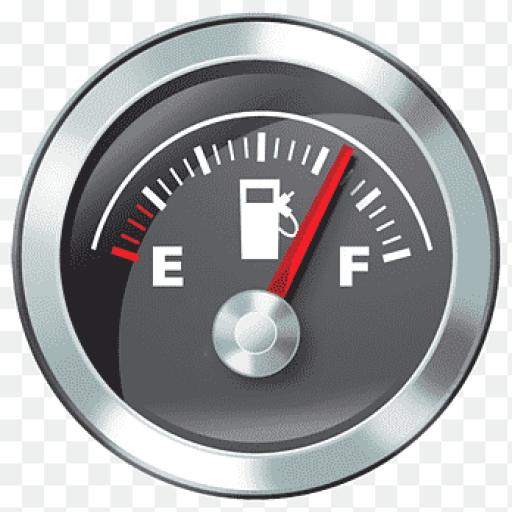empty: (145, 239, 192, 294)
fuel_icon: (234, 172, 288, 260)
full: (336, 241, 374, 293)
guage_area: (15, 15, 500, 498)
needle_center: (206, 283, 304, 385)
needle_tip: (334, 141, 356, 182)
